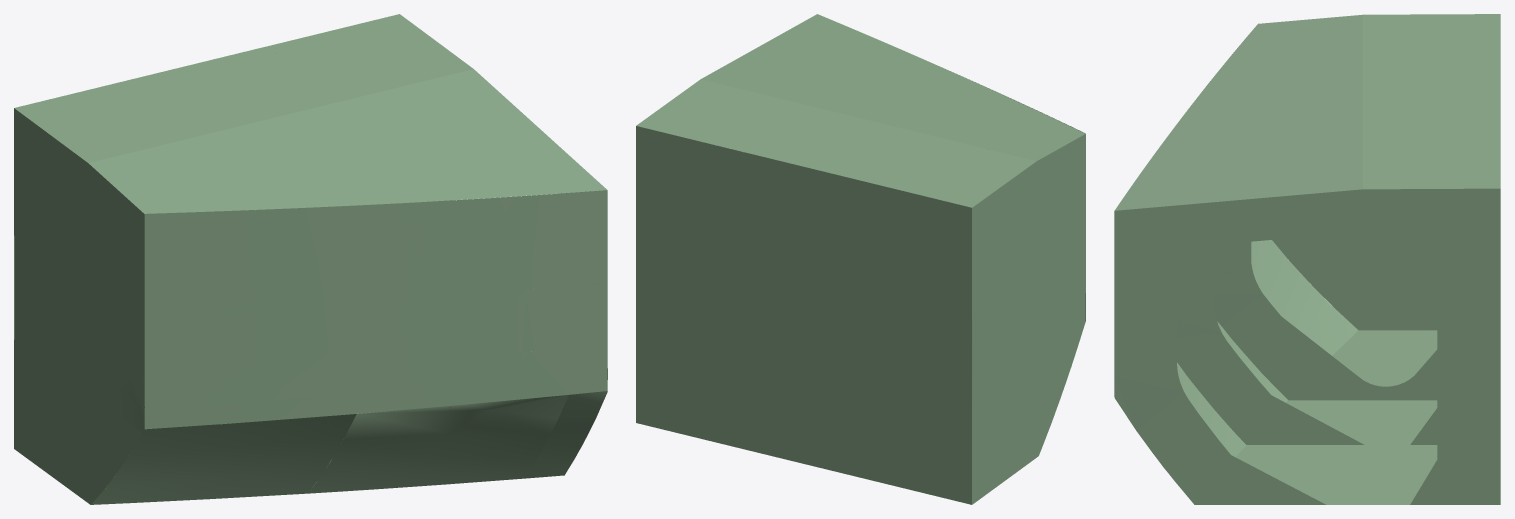
Rendered from FRESH_WATER_TK_SB.glb.
3 views of the same model, side by side, from view 1: azimuth 30°, elevation 25°; view 2: azimuth 150°, elevation 25°; view 3: azimuth 270°, elevation 25° (orthographic). The views are drawn at different scales.
Visible parts, largest first — view 1: PL_OuterShellxEPRS_019002-18.5_NVA_1993, PL_OuterShellxEPRS_019001-18.5_NVA_1993, PL_OuterShellxEPRS_015004-18.5_NVA_1993, PL_UDxEPRS_047002-12.5_NVA_1993, PL_OuterShellxEPRS_007001-18.5_NVA_1993, PL_OuterShellxEPRS_007002-18.5_NVA_1993, PL_UDxEPRS_047004-12.5_NVA_1993, PL_OuterShellxEPRS_015001-18.5_NVA_1993, PL_SideTransBHDxBHD13S_007001-12.5_NVA_1993, PL_OuterShellxEPRS_015002-18.5_NVA_1993, PL_UDxEPRS_039005-12.5_NVA_1993, PL_UDxEPRS_039010-12.5_NVA_1993 (+24 smaller); view 2: PL_LBHDxEPRS_027002-12.5_NVA_1993, PL_LBHDxEPRS_027004-12.5_NVA_1993, PL_LBHDxEPRS_025002-12.5_NVA_1993, PL_LBHDxEPRS_025004-12.5_NVA_1993, PL_LBHDxEPRS_026005-12.5_NVA_1993, PL_UDxEPRS_047002-12.5_NVA_1993, PL_LBHDxEPRS_026009-12.5_NVA_1993, PL_SideTransBHDxBHD13S_007001-12.5_NVA_1993, PL_UDxEPRS_047004-12.5_NVA_1993, PL_UDxEPRS_039005-12.5_NVA_1993, PL_LBHDxEPRS_026004-12.5_NVA_1993, PL_UDxEPRS_039010-12.5_NVA_1993 (+19 smaller); view 3: PL_UDxEPRS_047002-12.5_NVA_1993, PL_SideTransBHDxBHD13S_007001-12.5_NVA_1993, PL_TransxFR25S_013001-12_NVA_1993, PL_2ndDeckxEPRS_020002-13_NVA_1993, PL_TransxFR25S_018003-12_NVA_1993, PL_UDxEPRS_047004-12.5_NVA_1993, PL_TransxFR21S_011001-12_NVA_1993, PL_TransxFR18S_007002-12_NVA_1993, PL_TransxFR25S_015001-12_NVA_1993, PL_UDxEPRS_039005-12.5_NVA_1993, PL_TransxFR25S_017002-12_NVA_1993, PL_UDxEPRS_039010-12.5_NVA_1993 (+24 smaller).
Part boxes in pixels (x1,y1,x2,y2): PL_OuterShellxEPRS_019002-18.5_NVA_1993: (144, 205, 356, 320); PL_OuterShellxEPRS_019001-18.5_NVA_1993: (356, 193, 568, 305); PL_OuterShellxEPRS_015004-18.5_NVA_1993: (144, 305, 356, 409); PL_UDxEPRS_047002-12.5_NVA_1993: (263, 69, 548, 188); PL_OuterShellxEPRS_007001-18.5_NVA_1993: (308, 395, 568, 493); PL_OuterShellxEPRS_007002-18.5_NVA_1993: (91, 414, 356, 504); PL_UDxEPRS_047004-12.5_NVA_1993: (99, 120, 337, 213); PL_OuterShellxEPRS_015001-18.5_NVA_1993: (356, 286, 568, 365); PL_SideTransBHDxBHD13S_007001-12.5_NVA_1993: (14, 339, 141, 504); PL_OuterShellxEPRS_015002-18.5_NVA_1993: (356, 347, 568, 413); PL_UDxEPRS_039005-12.5_NVA_1993: (189, 14, 444, 99); PL_UDxEPRS_039010-12.5_NVA_1993: (25, 65, 233, 138); PL_LBHDxEPRS_027002-12.5_NVA_1993: (636, 126, 819, 288); PL_LBHDxEPRS_027004-12.5_NVA_1993: (820, 170, 971, 325); PL_LBHDxEPRS_025002-12.5_NVA_1993: (636, 334, 819, 467); PL_LBHDxEPRS_025004-12.5_NVA_1993: (820, 379, 971, 504); PL_LBHDxEPRS_026005-12.5_NVA_1993: (636, 280, 819, 378); PL_UDxEPRS_047002-12.5_NVA_1993: (701, 42, 949, 123); PL_LBHDxEPRS_026009-12.5_NVA_1993: (820, 288, 971, 386); PL_SideTransBHDxBHD13S_007001-12.5_NVA_1993: (972, 328, 1083, 504); PL_UDxEPRS_047004-12.5_NVA_1993: (885, 87, 1077, 158); PL_UDxEPRS_039005-12.5_NVA_1993: (636, 97, 859, 170); PL_LBHDxEPRS_026004-12.5_NVA_1993: (636, 243, 819, 325); PL_UDxEPRS_039010-12.5_NVA_1993: (820, 142, 1001, 205); PL_UDxEPRS_047002-12.5_NVA_1993: (1223, 93, 1362, 201); PL_SideTransBHDxBHD13S_007001-12.5_NVA_1993: (1272, 231, 1437, 330); PL_TransxFR25S_013001-12_NVA_1993: (1114, 376, 1325, 504); PL_2ndDeckxEPRS_020002-13_NVA_1993: (1256, 409, 1405, 504); PL_TransxFR25S_018003-12_NVA_1993: (1416, 353, 1500, 504); PL_UDxEPRS_047004-12.5_NVA_1993: (1223, 19, 1362, 105); PL_TransxFR21S_011001-12_NVA_1993: (1177, 315, 1363, 444); PL_TransxFR18S_007002-12_NVA_1993: (1214, 274, 1355, 400); PL_TransxFR25S_015001-12_NVA_1993: (1114, 201, 1230, 293); PL_UDxEPRS_039005-12.5_NVA_1993: (1416, 93, 1500, 188); PL_TransxFR25S_017002-12_NVA_1993: (1416, 188, 1500, 284); PL_UDxEPRS_039010-12.5_NVA_1993: (1416, 19, 1500, 93).
Bounding box in the file's own units: 10.5 × 8.87 × 9.81.
